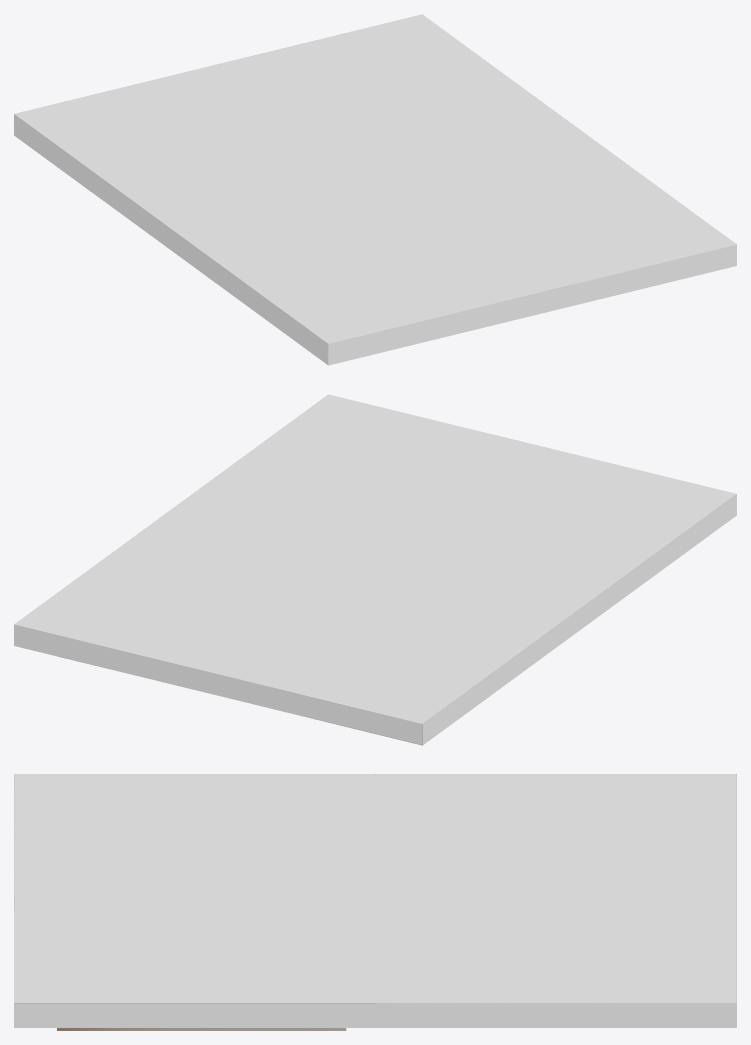
The model's file is Ceiling.gltf.
3 views of the same model, one above another, from view 1: azimuth 30°, elevation 25°; view 2: azimuth 150°, elevation 25°; view 3: azimuth 270°, elevation 25° (orthographic). The views are drawn at different scales.
Visible parts, largest first — view 1: Ceiling; view 2: Ceiling; view 3: Ceiling.
Boxes of the visible parts, bbox=[...] form: Ceiling: bbox=[14, 14, 736, 365]; Ceiling: bbox=[14, 394, 736, 745]; Ceiling: bbox=[14, 774, 736, 1030].
Bounding box in the file's own units: 6 × 0.4875 × 8.
Materials: 1 (1 with a texture image).
